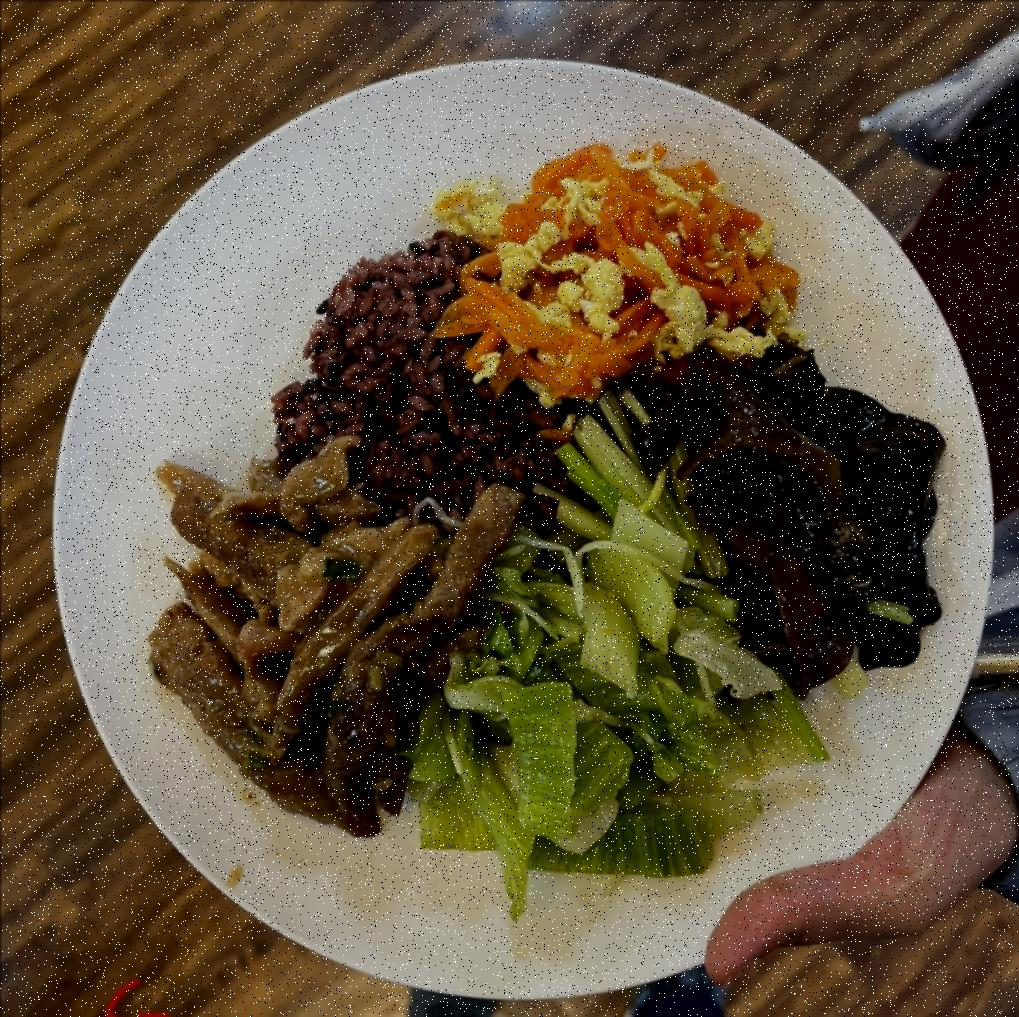big fried chicken leg: (56, 53, 1004, 994)
braised fish: (258, 226, 587, 534)
braised fish fillet: (450, 467, 790, 880), (433, 128, 807, 386), (666, 346, 960, 670)
braised pork: (133, 466, 523, 842)
